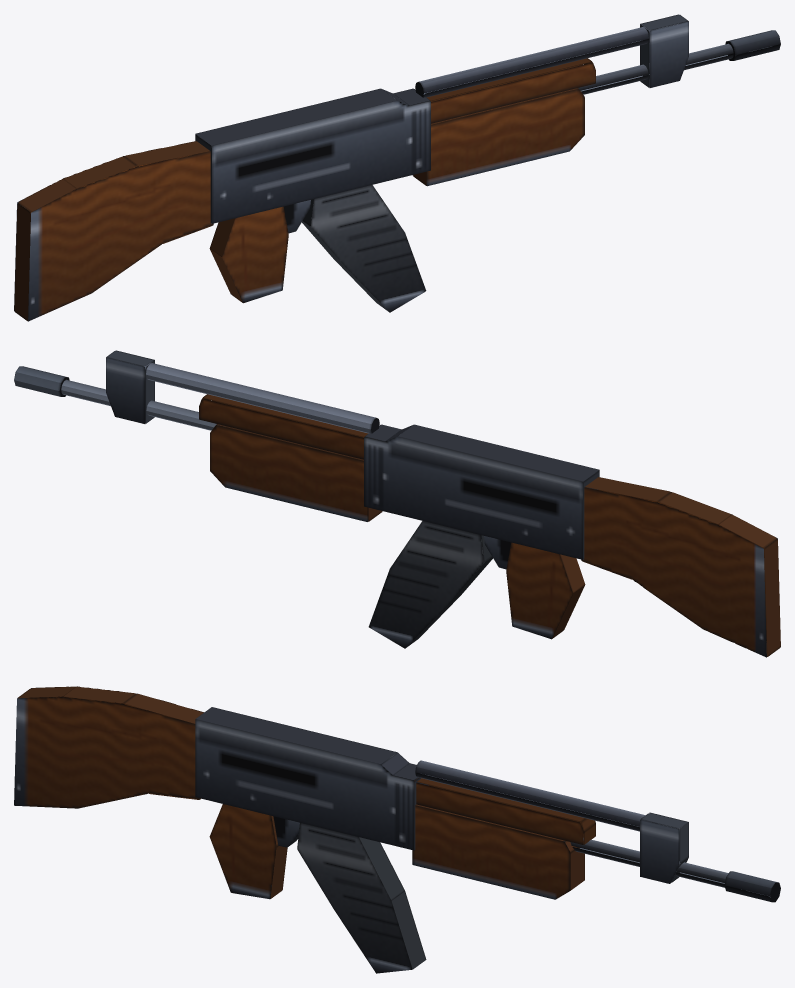
The picture shows the model from 3 angles, top to bottom: view 1: azimuth 30°, elevation 25°; view 2: azimuth 150°, elevation 25°; view 3: azimuth 330°, elevation 25°; orthographic projection.
Size of the model in its own units: 49.6 by 13.6 by 1.9.
Materials: 1 (1 with a texture image).
